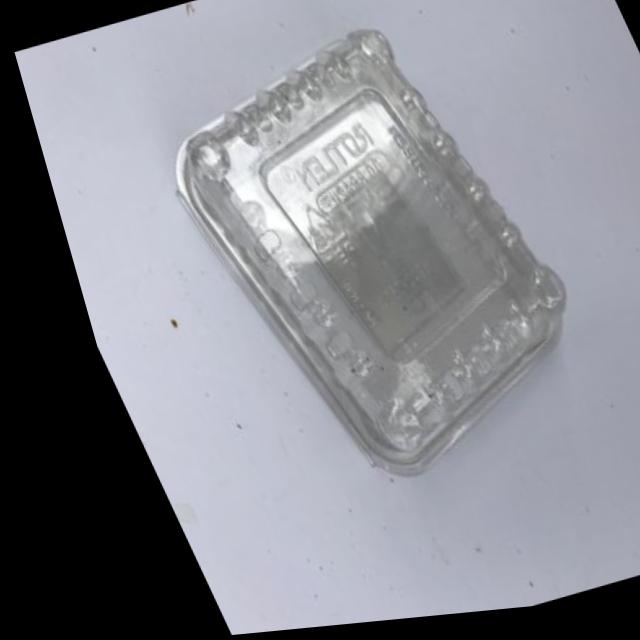plastic: (104, 0, 640, 520)
